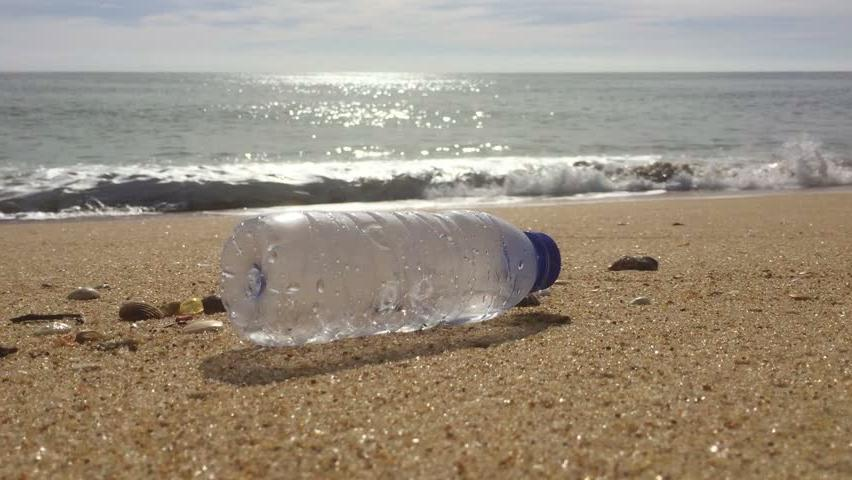Plastic: (216, 205, 564, 350)
